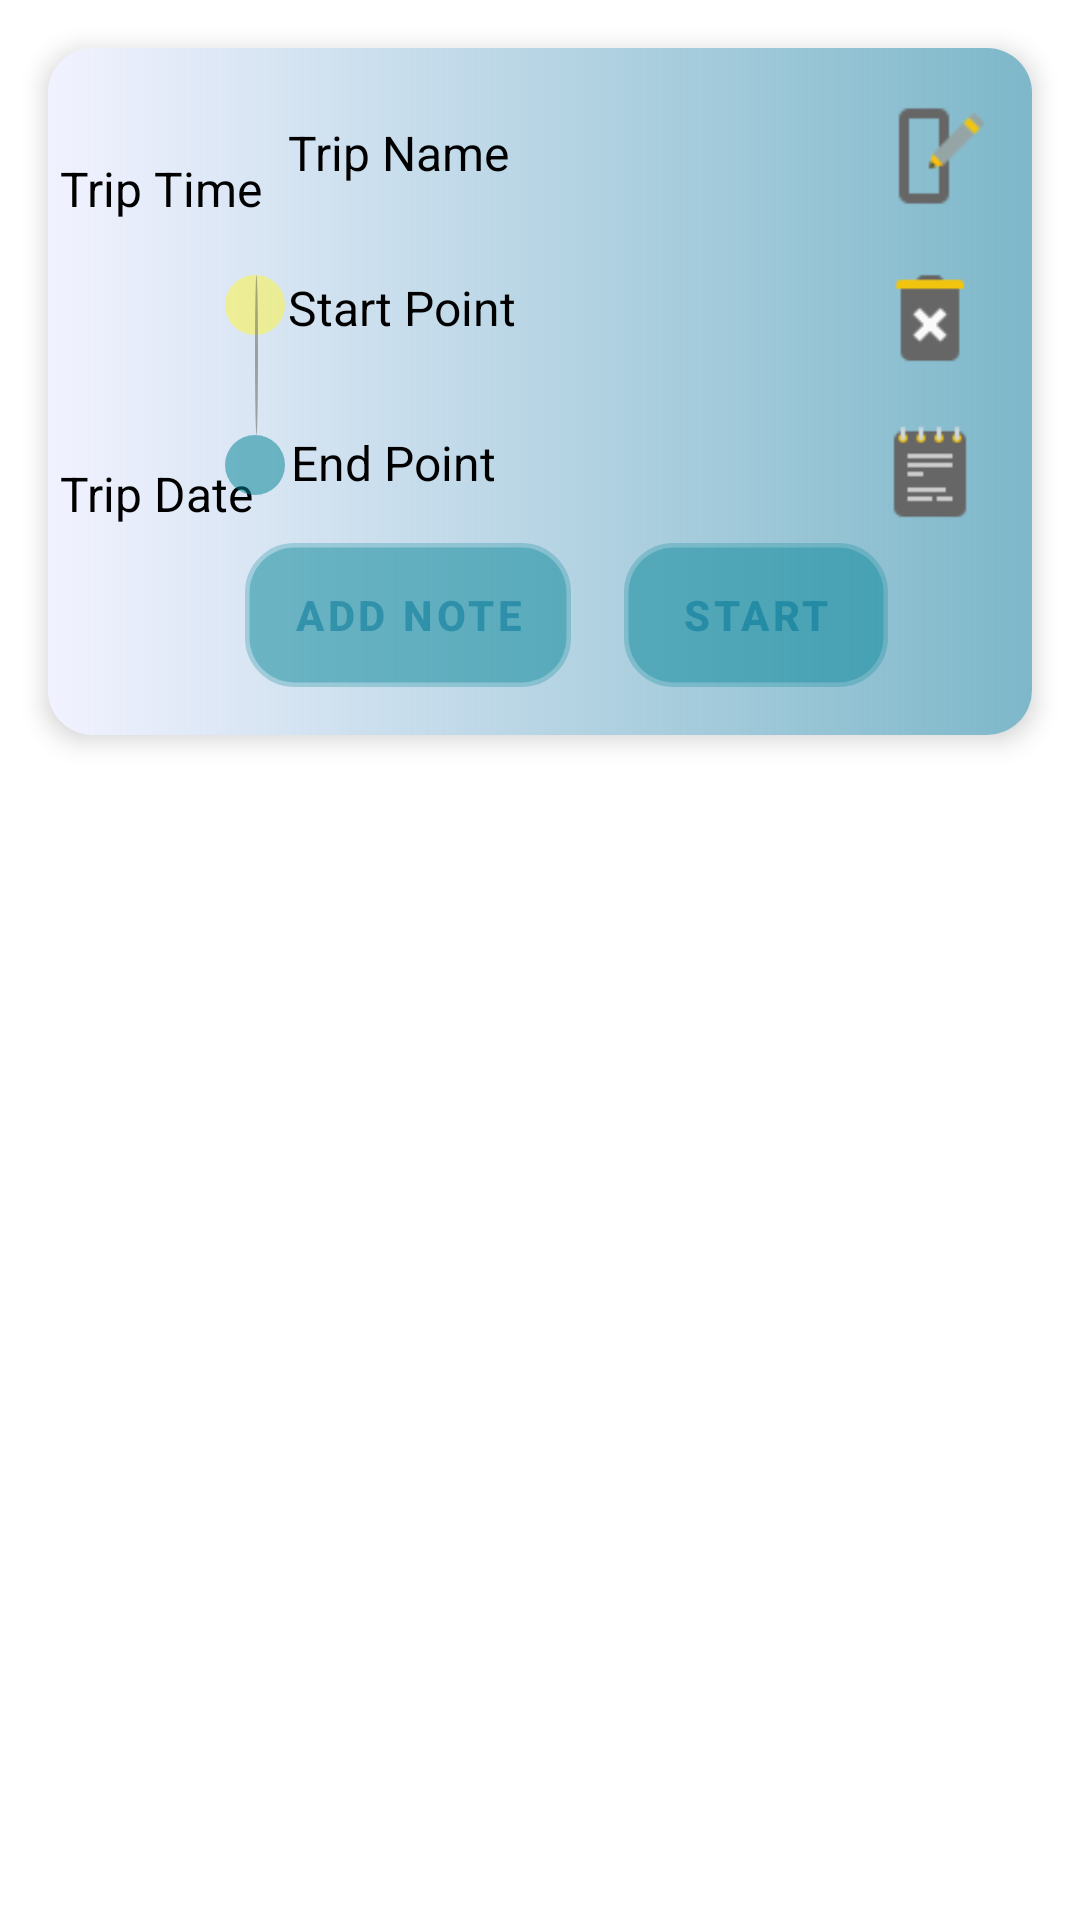

Screen size 1080*1920. Icon name, then its box in pixels as (x1, y1, x2, y2):
deletebin: (895, 275, 965, 361)
edit: (898, 108, 984, 204)
notes: (893, 426, 967, 517)
